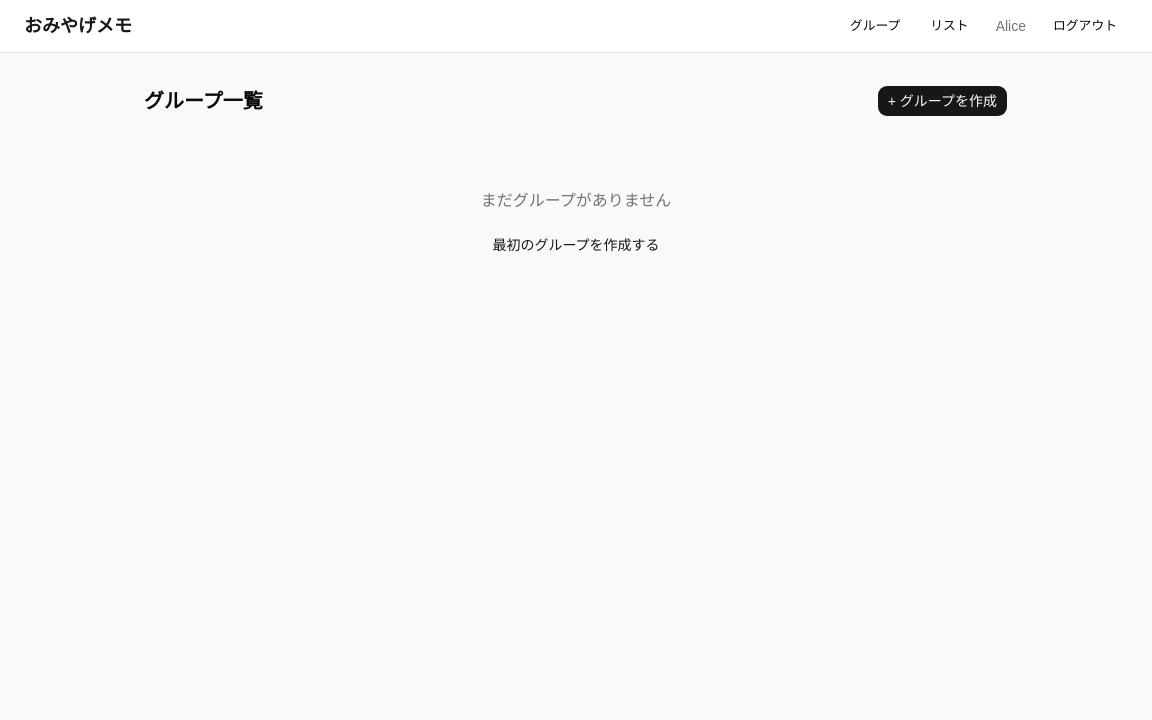
Test: GroupListPage › 「グループを作成」ボタンを押すとモーダルが開く
Expected: the text "まだグループがありません" is shown, [481,192,671,209]
Click the button "+ グループを作成". click: (942, 101)
box: [877,85,1008,117]
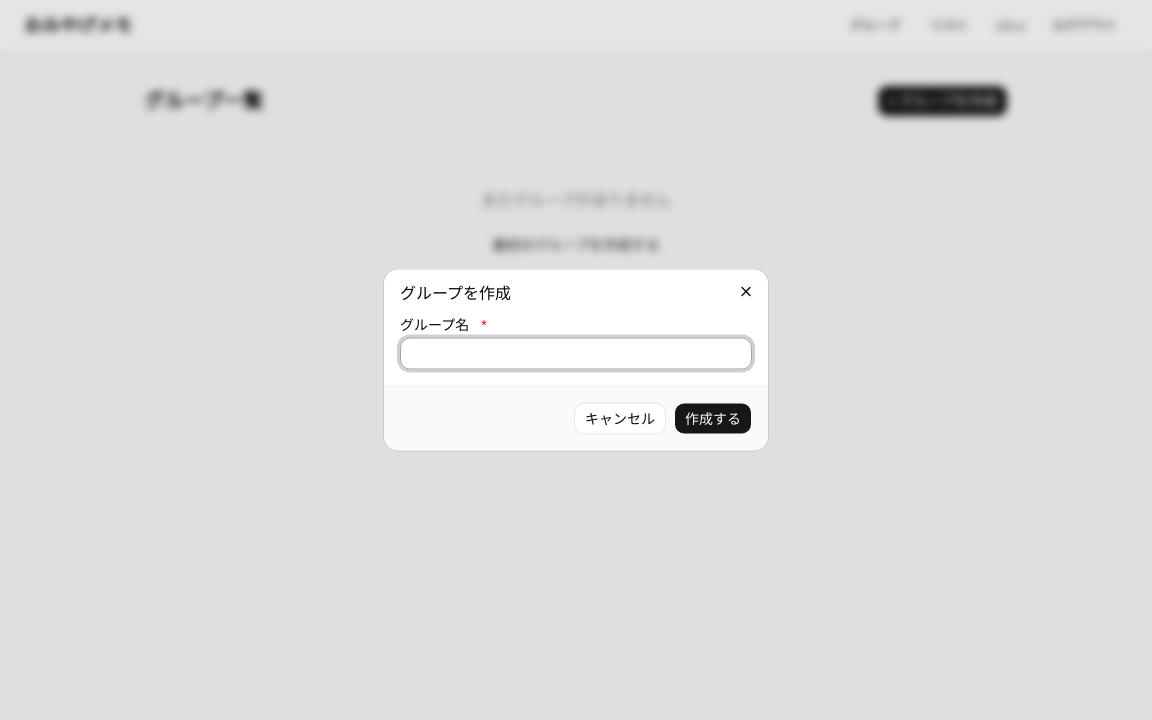
Expected: the heading "グループを作成" is shown, [400,284,511,302]
